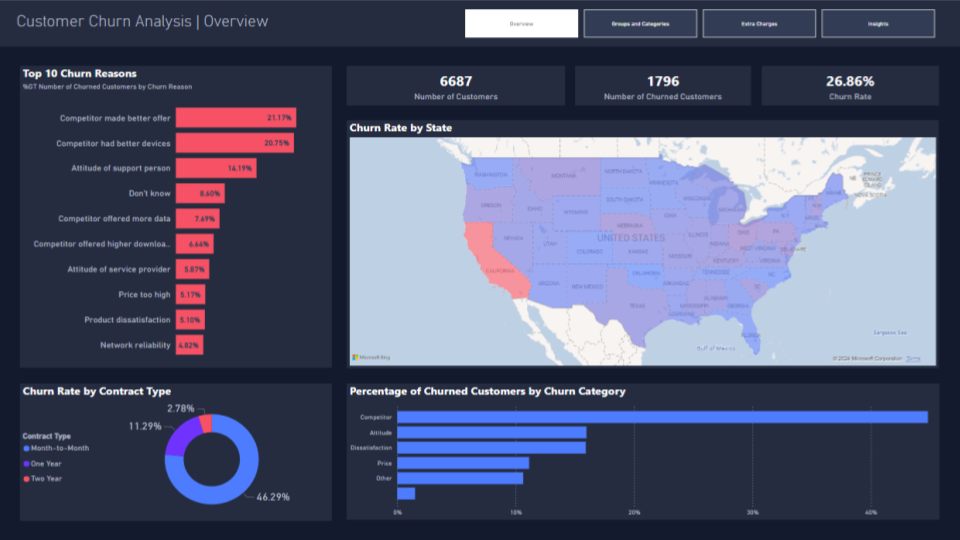

What the dashboard file says about the page in this screenshot:
{"tool":"powerbi","page":{"name":"Overview","canvas":[1640,960],"ordinal":0},"visuals":[{"type":"card","fields":{"Values":["_Measures.Number of Customers"]},"box":[594.3,117.1,371.4,70],"z":0,"group":"g1"},{"type":"card","fields":{"Values":["_Measures.Number of Churned Customers"]},"box":[982.9,117.1,298.6,70],"z":1000,"group":"g1"},{"type":"card","fields":{"Values":["_Measures.Churn Rate"]},"box":[1300,117.1,301.4,70],"z":2000,"group":"g1"},{"type":"clusteredBarChart","title":"Top 10 Churn Reasons","fields":{"Category":["Databel - Data.Churn Reason"],"Y":["Divide(_Measures.Number of Churned Customers, ScopedEval(_Measures.Number of Churned Customers, []))"]},"box":[40,117.1,530,534.3],"z":3000,"group":"g1"},{"type":"clusteredBarChart","title":"Percentage of Churned Customers by Churn Category","fields":{"Category":["Databel - Data.Churn Category"],"Y":["_Measures.Number of Churned Customers"]},"box":[594.3,678.6,1007.1,241.4],"z":4000,"group":"g1"},{"type":"donutChart","fields":{"Category":["Databel - Data.Contract Type"],"Y":["_Measures.Churn Rate"]},"box":[40,678.6,530,242.9],"z":5000,"group":"g1"},{"type":"shape","box":[0,0,1640.2,83.1],"z":6000,"group":"g1"},{"type":"filledMap","title":"Churn Rate by State","fields":{"Category":["Databel - Data.State"]},"box":[594.3,212.9,1005.7,438.6],"z":7000,"group":"g1"},{"type":"textbox","box":[28.7,16.2,446.1,57.3],"z":8000,"group":"g1"},{"type":"pageNavigator","box":[795.8,16.7,800,50],"z":9000,"group":"g1"},{"type":"group","id":"g1","title":"Group 1","box":[0,0,1640.2,921.4],"z":9001}]}

Visuals, with their boxes on the page's 1640x960 design canvas (x1, y1, x2, y2). These are canvas units, not pixel positions in the 960x540 screenshot, which may show the page scaled, cropped or inside an application window:
card - _Measures.Number of Customers: <bbox>594, 117, 966, 187</bbox>
card - _Measures.Number of Churned Customers: <bbox>983, 117, 1282, 187</bbox>
card - _Measures.Churn Rate: <bbox>1300, 117, 1601, 187</bbox>
"Top 10 Churn Reasons" clusteredBarChart: <bbox>40, 117, 570, 651</bbox>
"Percentage of Churned Customers by Churn Category" clusteredBarChart: <bbox>594, 679, 1601, 920</bbox>
donutChart - Databel - Data.Contract Type x _Measures.Churn Rate: <bbox>40, 679, 570, 922</bbox>
shape: <bbox>0, 0, 1640, 83</bbox>
"Churn Rate by State" filledMap: <bbox>594, 213, 1600, 652</bbox>
textbox: <bbox>29, 16, 475, 74</bbox>
pageNavigator: <bbox>796, 17, 1596, 67</bbox>
"Group 1" group: <bbox>0, 0, 1640, 921</bbox>
